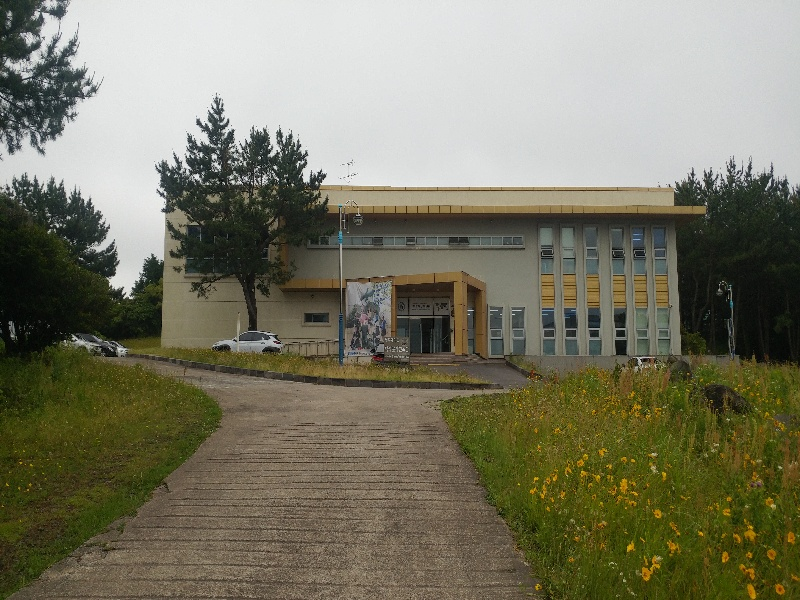Military Education Unit: (173, 180, 687, 361), (317, 196, 517, 365)
